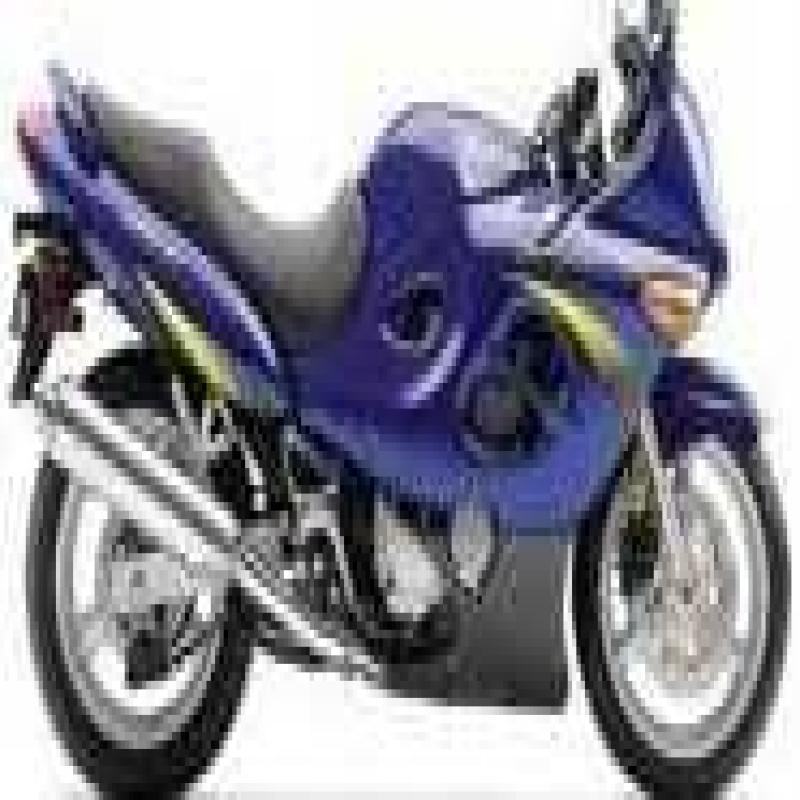bike: (5, 12, 799, 800)
